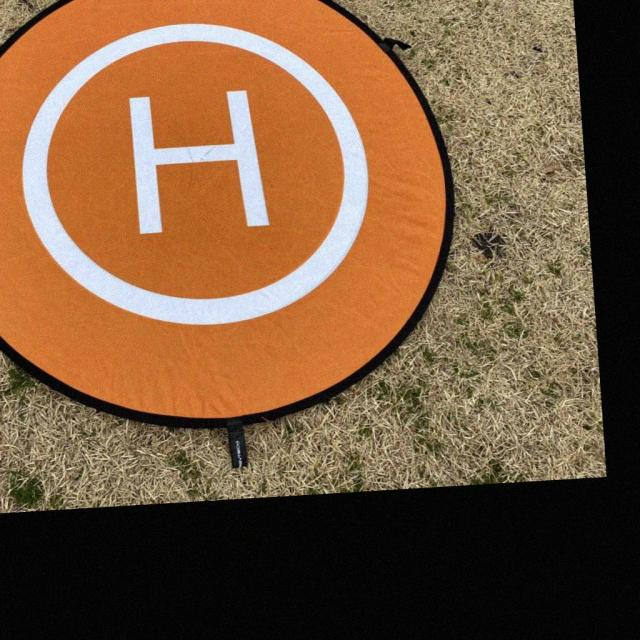helipad: (11, 19, 378, 332)
